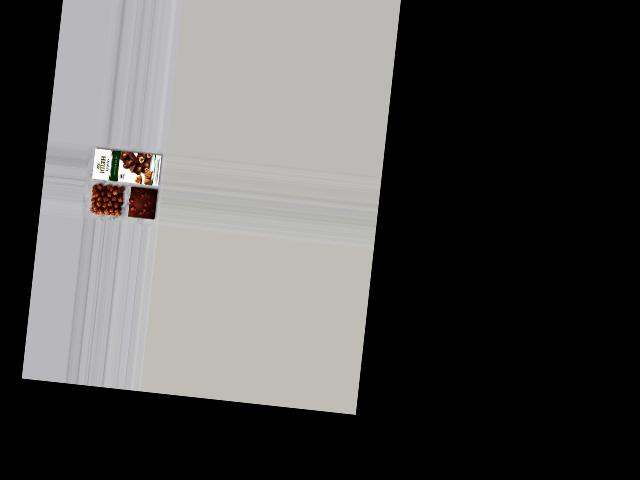chocolate: (127, 185, 159, 223)
